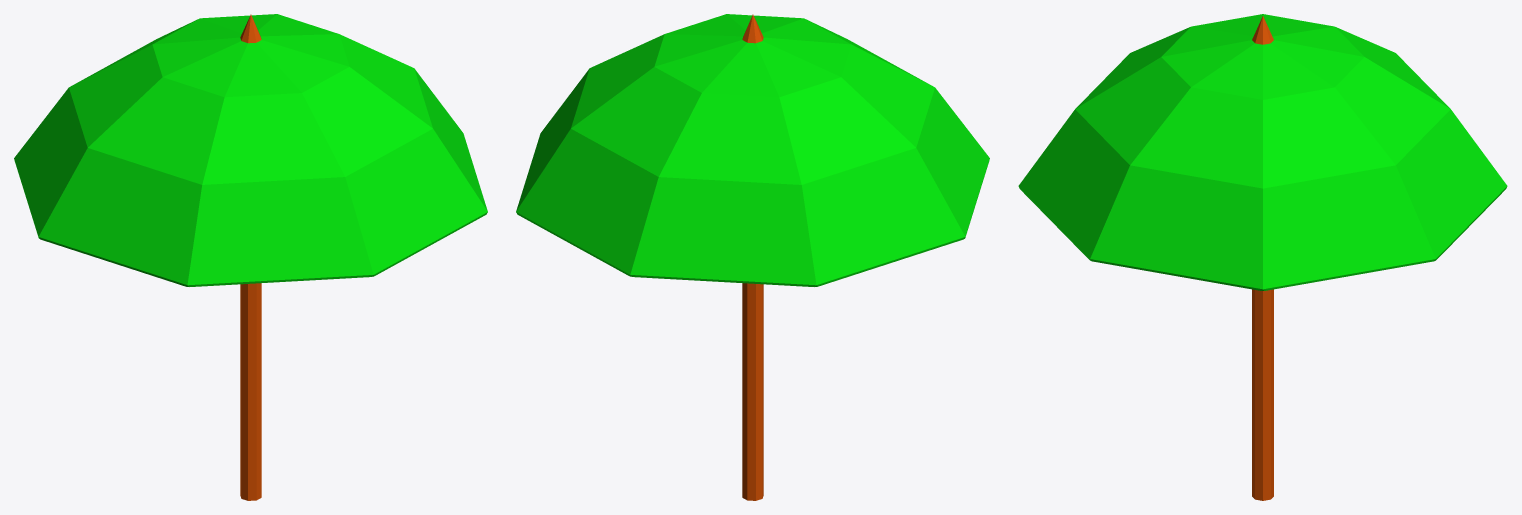
File: umbrella.glb
The picture shows the model from 3 angles, left to right: view 1: azimuth 30°, elevation 25°; view 2: azimuth 150°, elevation 25°; view 3: azimuth 270°, elevation 25°; orthographic projection.
Parts seen in each view (by area): view 1: umbrella; view 2: umbrella; view 3: umbrella.
Part boxes in pixels (x1,y1,x2,y2): umbrella: (14, 14, 487, 500); umbrella: (516, 14, 989, 500); umbrella: (1018, 14, 1507, 500).
Size of the model in its own units: 4.04 by 4.38 by 4.04.
